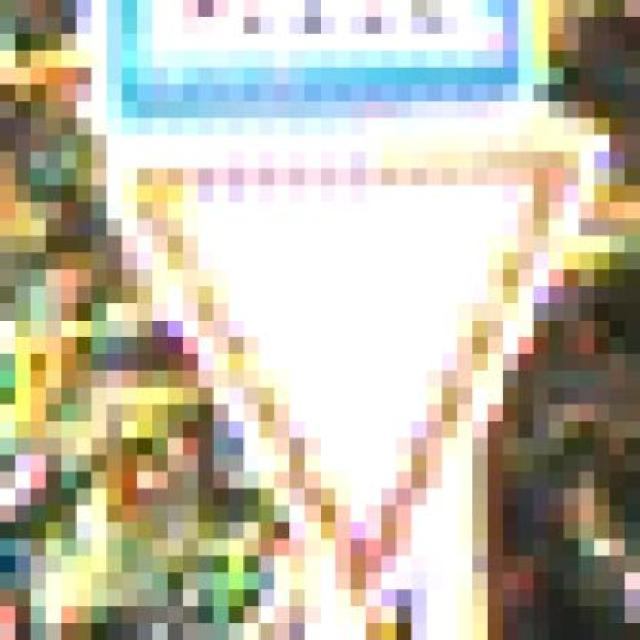Give Way: (107, 122, 610, 628)
